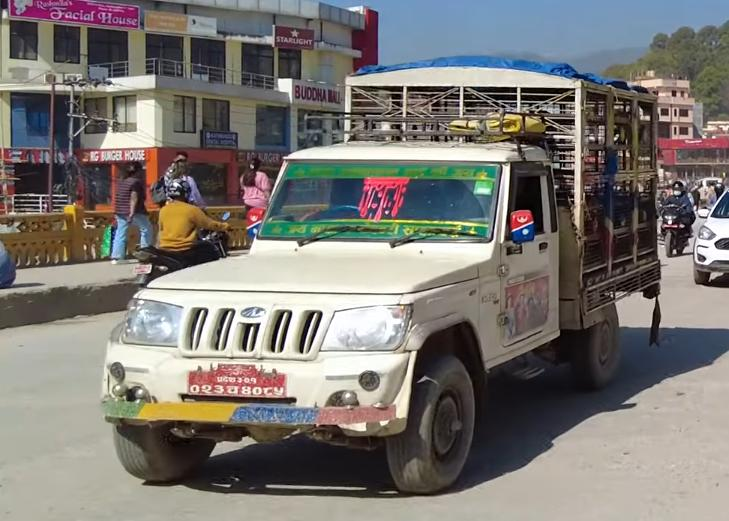bike: (125, 222, 234, 295), (659, 198, 694, 260)
car: (694, 187, 729, 290)
transport_vehicle: (102, 58, 669, 505)
